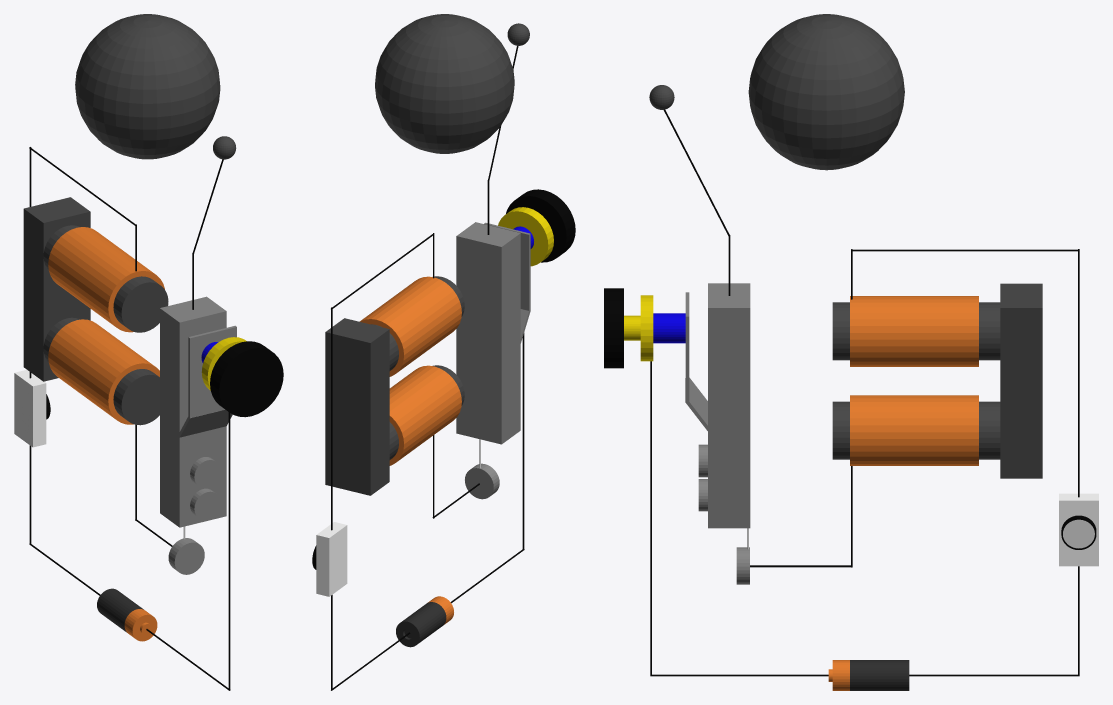
The model's file is ElectricBell.gltf.
The picture shows the model from 3 angles, left to right: view 1: azimuth 30°, elevation 25°; view 2: azimuth 150°, elevation 25°; view 3: azimuth 270°, elevation 25°; orthographic projection. The views are drawn at different scales.
Parts seen in each view (by area): view 1: Sphere.001, Cube.001, Cube, Cylinder.003, Cylinder.002, Cylinder.009, Cylinder, Cylinder.001, Cube.004, Cube.003, Cylinder.017, Cylinder.025 (+8 smaller); view 2: Sphere.001, Cube.001, Cube, Cylinder.003, Cylinder.002, Cube.004, Cylinder.009, Cylinder.007, Cylinder.025, Cube.003, Cylinder.017, Cylinder.013 (+4 smaller); view 3: Sphere.001, Cube.001, Cylinder.002, Cylinder.003, Cube, Cylinder, Cylinder.001, Cube.004, Cylinder.025, Cylinder.009, Cylinder.014, Cylinder.006 (+2 smaller).
Part boxes in pixels (x1,y1,x2,y2): Sphere.001: (75,14,220,159); Cube.001: (160,296,226,527); Cube: (23,197,90,381); Cylinder.003: (48,227,164,332); Cylinder.002: (48,319,159,424); Cylinder.009: (210,341,283,417); Cylinder: (43,225,168,332); Cylinder.001: (43,317,159,425); Cube.004: (14,370,46,447); Cube.003: (188,325,236,417); Cylinder.017: (168,538,204,574); Cylinder.025: (97,588,143,632); Sphere.001: (375,14,514,153); Cube.001: (456,222,520,444); Cube: (325,318,389,495); Cylinder.003: (359,276,461,376); Cylinder.002: (389,365,461,465); Cube.004: (316,522,347,596); Cylinder.009: (506,189,575,262); Cylinder.007: (498,207,553,266); Cylinder.025: (396,602,446,647); Cube.003: (484,222,530,311); Cylinder.017: (465,463,499,499); Cylinder.013: (522,333,524,549); Sphere.001: (748,14,904,170); Cube.001: (708,283,750,528); Cylinder.002: (850,395,978,465); Cylinder.003: (850,296,978,366); Cube: (1000,283,1042,478); Cylinder: (832,302,1000,360); Cylinder.001: (832,401,1000,459); Cube.004: (1059,493,1098,566); Cylinder.025: (850,660,909,690); Cylinder.009: (604,288,623,368); Cylinder.014: (650,674,1079,676); Cylinder.006: (653,313,685,343).
Size of the model in its own units: 5.37 by 25.34 by 17.
